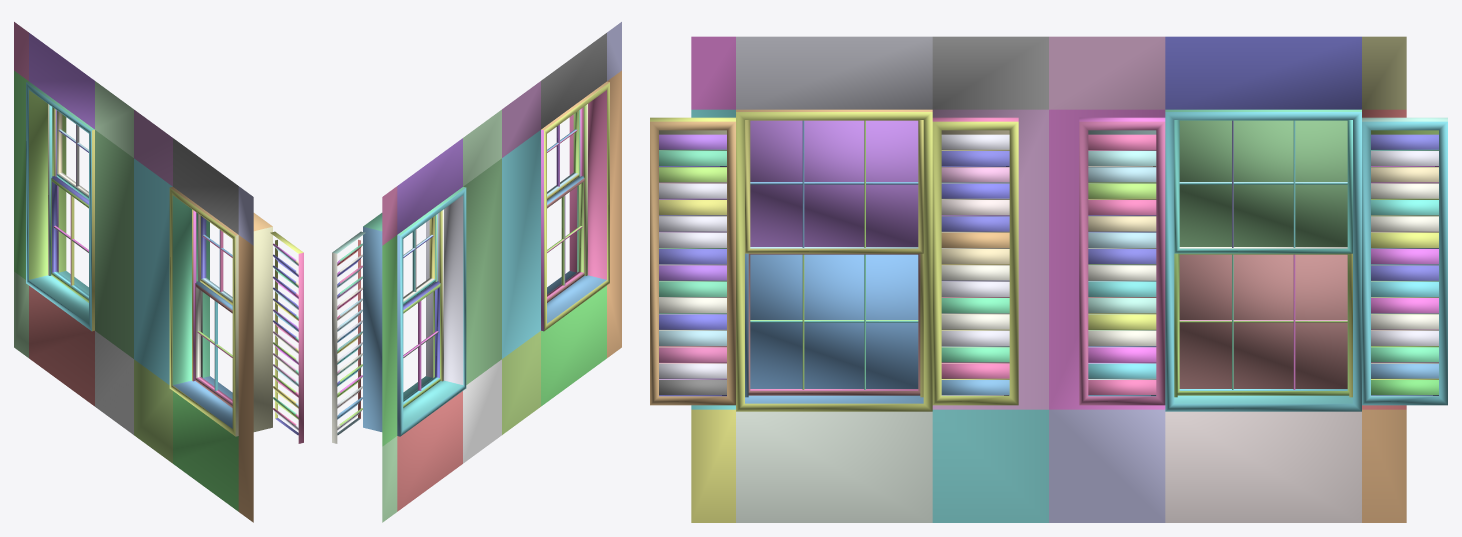
Rendered from SM_window_02.gltf.
3 renders of one model, left to right at view 1: azimuth 30°, elevation 25°; view 2: azimuth 150°, elevation 25°; view 3: azimuth 270°, elevation 25°, orthographic. The views are drawn at different scales.
Visible parts, largest first — view 1: SM_window_02; view 2: SM_window_02; view 3: SM_window_02.
Part boxes in pixels (x1,y1,x2,y2): SM_window_02: (14,22,303,522); SM_window_02: (332,22,621,522); SM_window_02: (650,36,1447,522).
Size of the model in its own units: 0.403 by 3 by 4.46.
